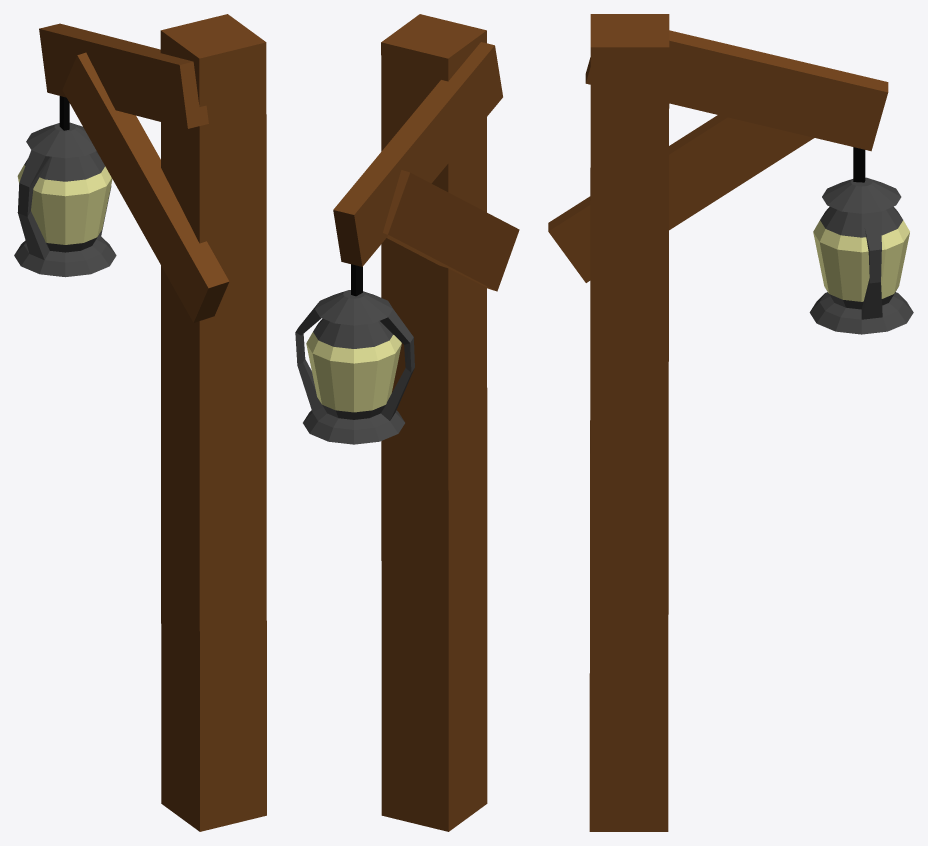
File: lampPostWest.gltf
The picture shows the model from 3 angles, left to right: view 1: azimuth 30°, elevation 25°; view 2: azimuth 150°, elevation 25°; view 3: azimuth 270°, elevation 25°; orthographic projection.
Parts seen in each view (by area): view 1: Cube, Cube.002, Cylinder, Cube.001; view 2: Cube, Cylinder, Cube.001, Cube.002; view 3: Cube, Cube.001, Cylinder, Cube.002.
Boxes of the visible parts, x1,y1,x2,y2 form: Cube: [160, 14, 266, 831]; Cube.002: [62, 52, 229, 322]; Cylinder: [14, 122, 116, 277]; Cube.001: [39, 23, 208, 128]; Cube: [381, 14, 487, 831]; Cylinder: [295, 290, 414, 444]; Cube.001: [333, 42, 502, 266]; Cube.002: [383, 170, 519, 291]; Cube: [589, 14, 669, 831]; Cube.001: [585, 30, 888, 151]; Cylinder: [809, 177, 913, 334]; Cube.002: [548, 115, 813, 282].
Bounding box in the file's own units: 0.5119 × 3.15 × 1.33.
